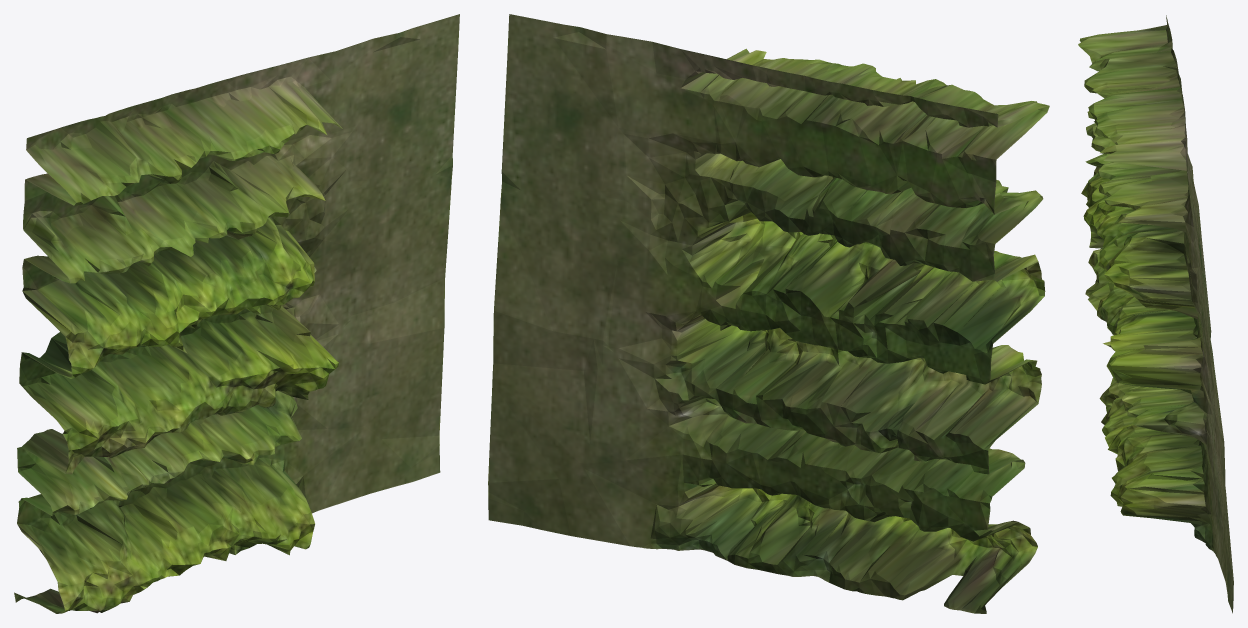
The model's file is map_50_70.obj.
3 renders of one model, left to right at view 1: azimuth 30°, elevation 25°; view 2: azimuth 150°, elevation 25°; view 3: azimuth 270°, elevation 25°, orthographic. The views are drawn at different scales.
Parts seen in each view (by area): view 1: grp1; view 2: grp1; view 3: grp1.
Part boxes in pixels (left/top/right/bottom): grp1: left=14, top=14, right=459, bottom=613; grp1: left=488, top=14, right=1049, bottom=613; grp1: left=1078, top=15, right=1233, bottom=613.
Bounding box in the file's own units: 10 × 10 × 3.45.
1 material, 1 textured.
